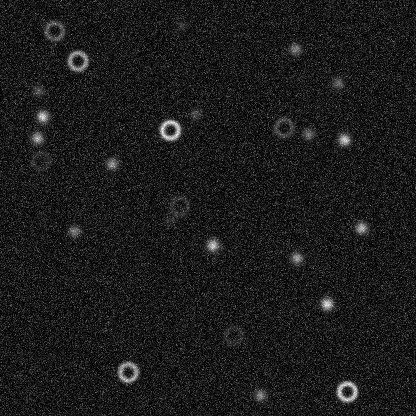Ring: (157, 117, 181, 141), (115, 360, 139, 384), (65, 48, 89, 72), (334, 379, 358, 403), (271, 115, 295, 139), (42, 18, 66, 42), (28, 148, 52, 172), (167, 193, 191, 217), (221, 323, 245, 347)
Spot: (66, 222, 82, 238), (251, 387, 267, 403), (300, 126, 316, 142), (103, 155, 119, 171), (336, 131, 352, 147), (29, 82, 45, 98), (318, 295, 334, 311), (204, 237, 220, 253), (161, 211, 177, 227), (187, 105, 203, 121), (172, 17, 188, 33), (288, 249, 304, 265), (329, 74, 345, 90), (29, 130, 45, 146), (34, 108, 50, 124), (287, 40, 303, 56), (353, 219, 369, 235)
